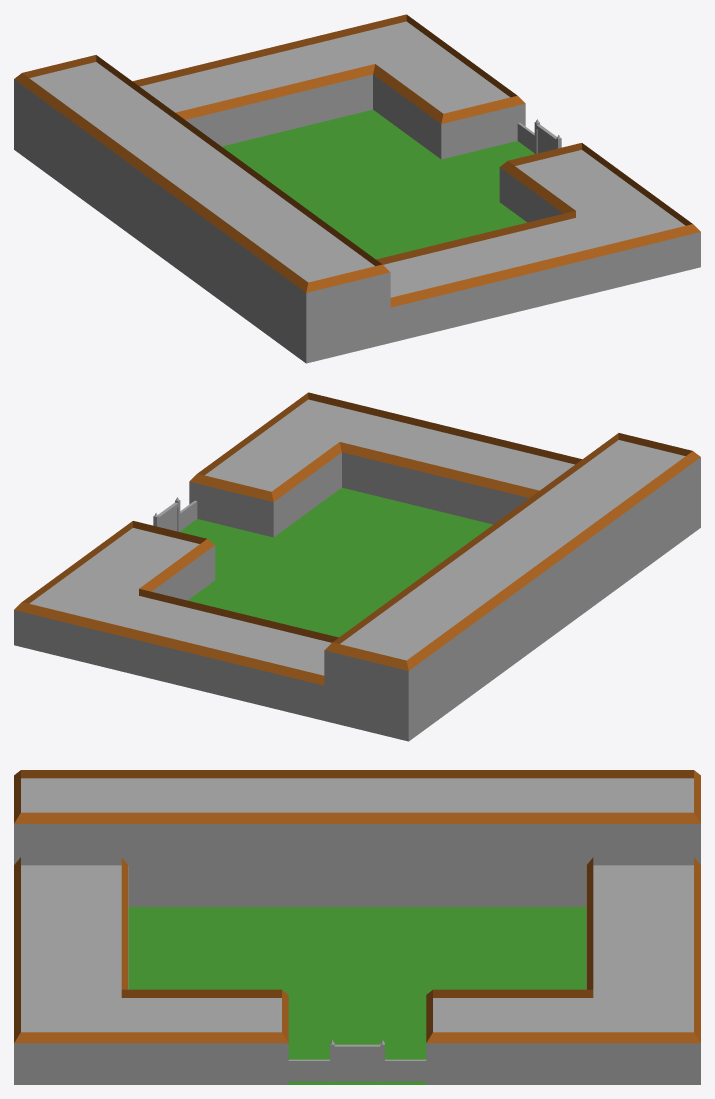
File: courtyard.fbx
The picture shows the model from 3 angles, top to bottom: view 1: azimuth 30°, elevation 25°; view 2: azimuth 150°, elevation 25°; view 3: azimuth 270°, elevation 25°; orthographic projection. The views are drawn at different scales.
Parts seen in each view (by area): view 1: pCube2, pPlane1, pCube25, pCube4, pCube24, pCube1, ramp_pCube15, ramp_pCube4, pPlane2, ramp_pCube16, ramp_pCube14, ramp_pCube6 (+9 smaller); view 2: pCube2, pPlane1, pCube4, pCube25, pCube1, pCube24, ramp_pCube15, ramp_pCube14, pPlane2, ramp_pCube16, ramp_pCube4, ramp_pCube20 (+9 smaller); view 3: pCube2, pPlane1, pCube1, pCube24, pCube4, pCube25, ramp_pCube16, ramp_pCube15, ramp_pCube12, ramp_pCube13, pPlane2, pCube6 (+8 smaller).
Part boxes in pixels (bbox=[...]): pCube2: bbox=[14, 62, 390, 363]; pPlane1: bbox=[222, 109, 526, 259]; pCube25: bbox=[383, 219, 616, 342]; pCube4: bbox=[140, 41, 372, 146]; pCube24: bbox=[327, 21, 525, 159]; pCube1: bbox=[499, 150, 700, 287]; ramp_pCube15: bbox=[17, 73, 308, 290]; ramp_pCube4: bbox=[390, 224, 695, 307]; pPlane2: bbox=[441, 141, 534, 201]; ramp_pCube16: bbox=[96, 55, 382, 265]; ramp_pCube14: bbox=[133, 14, 406, 86]; ramp_pCube6: bbox=[175, 65, 372, 119]; pCube2: bbox=[324, 440, 700, 741]; pPlane1: bbox=[188, 487, 492, 637]; pCube4: bbox=[98, 597, 331, 720]; pCube25: bbox=[342, 419, 574, 524]; pCube1: bbox=[189, 399, 387, 537]; pCube24: bbox=[14, 528, 215, 665]; ramp_pCube15: bbox=[406, 451, 697, 668]; ramp_pCube14: bbox=[19, 602, 324, 685]; pPlane2: bbox=[180, 519, 273, 579]; ramp_pCube16: bbox=[332, 433, 618, 643]; ramp_pCube4: bbox=[308, 392, 581, 464]; ramp_pCube20: bbox=[342, 443, 539, 497]; pCube2: bbox=[14, 778, 700, 906]; pPlane1: bbox=[128, 907, 586, 1036]; pCube1: bbox=[14, 995, 288, 1084]; pCube24: bbox=[426, 995, 700, 1084]; pCube4: bbox=[586, 865, 693, 994]; pCube25: bbox=[21, 865, 128, 994]; ramp_pCube16: bbox=[21, 812, 693, 823]; ramp_pCube15: bbox=[21, 770, 693, 778]; ramp_pCube12: bbox=[21, 1032, 281, 1043]; ramp_pCube13: bbox=[433, 1032, 693, 1043]; pPlane2: bbox=[288, 1036, 426, 1084]; pCube6: bbox=[334, 1051, 380, 1081].
Size of the model in its own units: 234 by 44 by 300.
